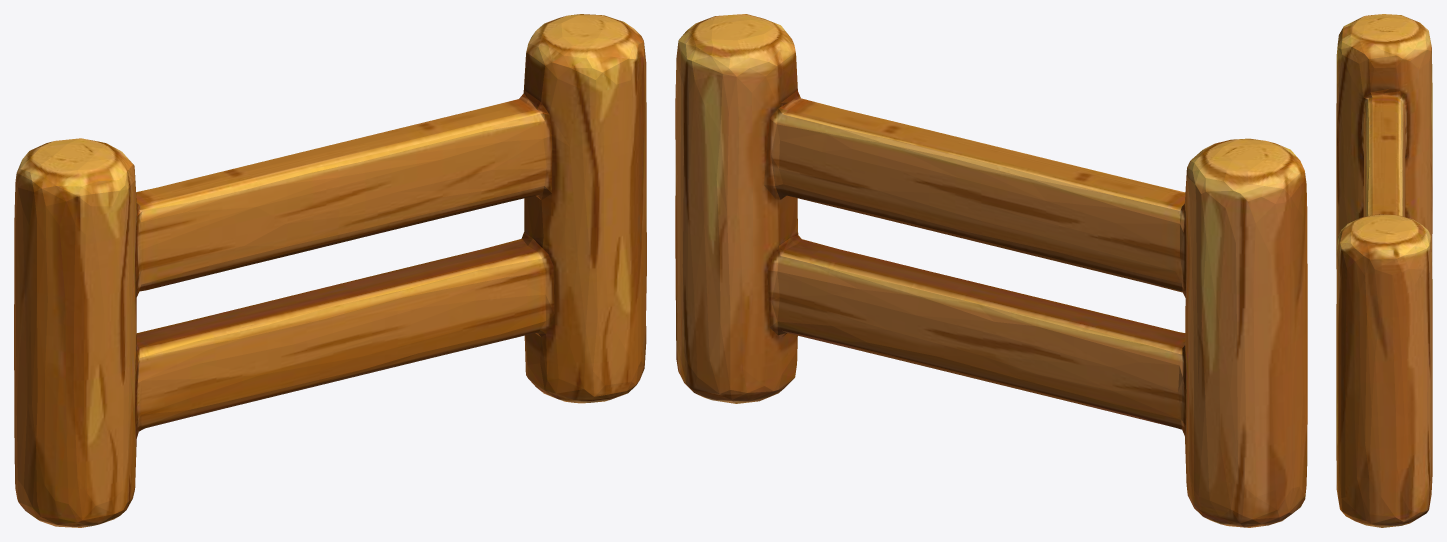
File: fence_rail_orange_lod0.glb
The picture shows the model from 3 angles, left to right: view 1: azimuth 30°, elevation 25°; view 2: azimuth 150°, elevation 25°; view 3: azimuth 270°, elevation 25°; orthographic projection. The views are drawn at different scales.
Parts seen in each view (by area): view 1: fence_rail_orange_lod0; view 2: fence_rail_orange_lod0; view 3: fence_rail_orange_lod0.
Boxes of the visible parts, <box> form: fence_rail_orange_lod0: <box>14,14,646,527</box>; fence_rail_orange_lod0: <box>675,14,1307,527</box>; fence_rail_orange_lod0: <box>1336,14,1432,527</box>.
Bounding box in the file's own units: 2 × 1.12 × 0.3373.
Materials: 1 (1 with a texture image).
